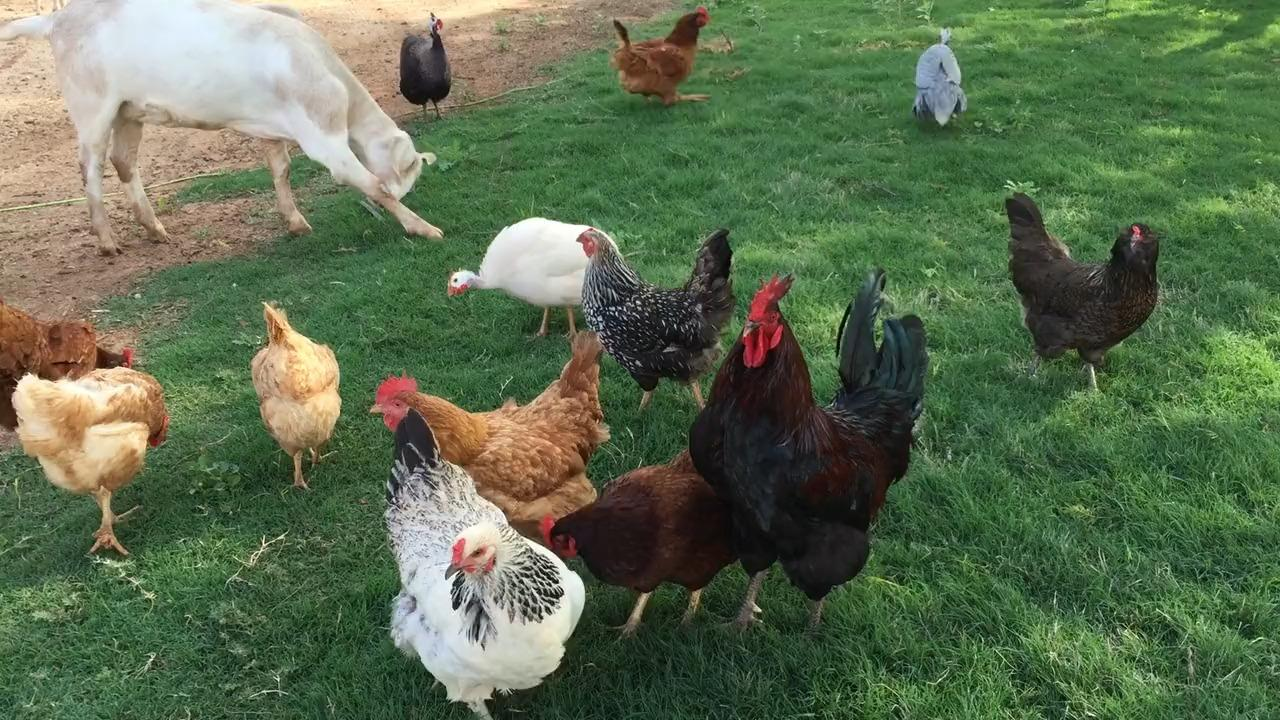Normal: (730, 297, 915, 615), (383, 426, 585, 717), (379, 356, 595, 521), (1002, 195, 1162, 401), (580, 227, 740, 406), (16, 367, 164, 551), (447, 220, 609, 332), (256, 299, 346, 492), (606, 7, 712, 104), (395, 15, 459, 121)
